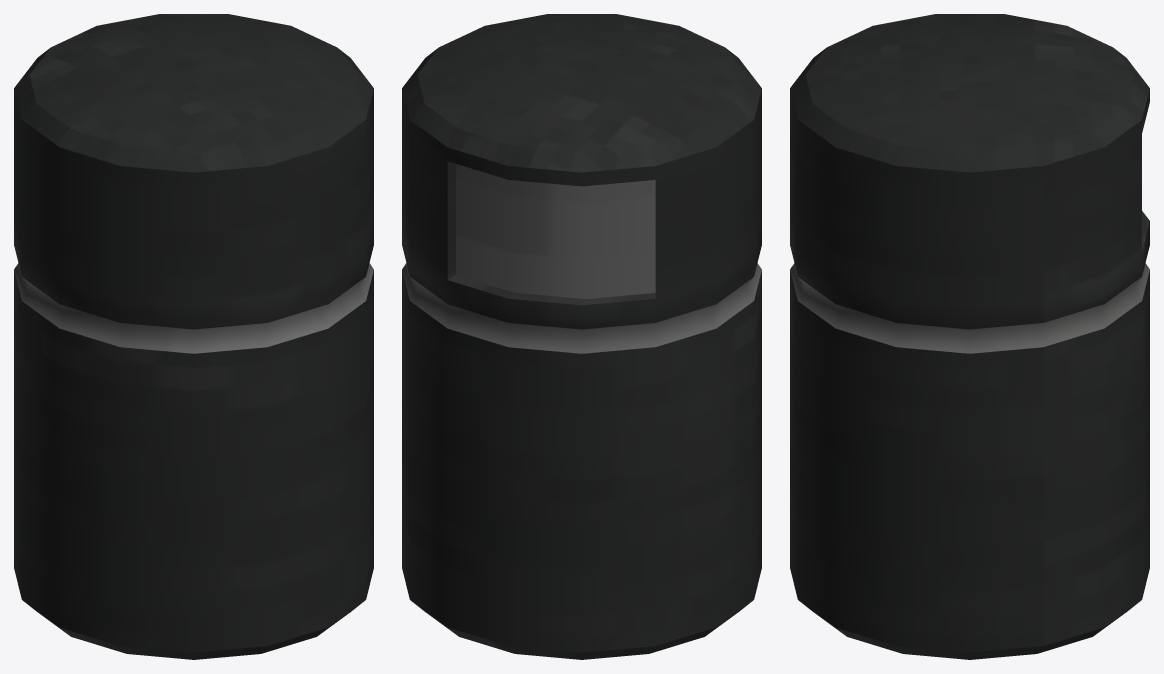
Rendered from PublicTrashcan.fbx.
3 views of the same model, side by side, from view 1: azimuth 30°, elevation 25°; view 2: azimuth 150°, elevation 25°; view 3: azimuth 270°, elevation 25° (orthographic).
Parts seen in each view (by area): view 1: pCylinder1; view 2: pCylinder1; view 3: pCylinder1.
Part boxes in pixels (box(x1,y1,x2,y2)): pCylinder1: box(14, 14, 373, 659); pCylinder1: box(402, 14, 761, 659); pCylinder1: box(790, 14, 1149, 659).
Bounding box in the file's own units: 1.89 × 3.07 × 1.9.
